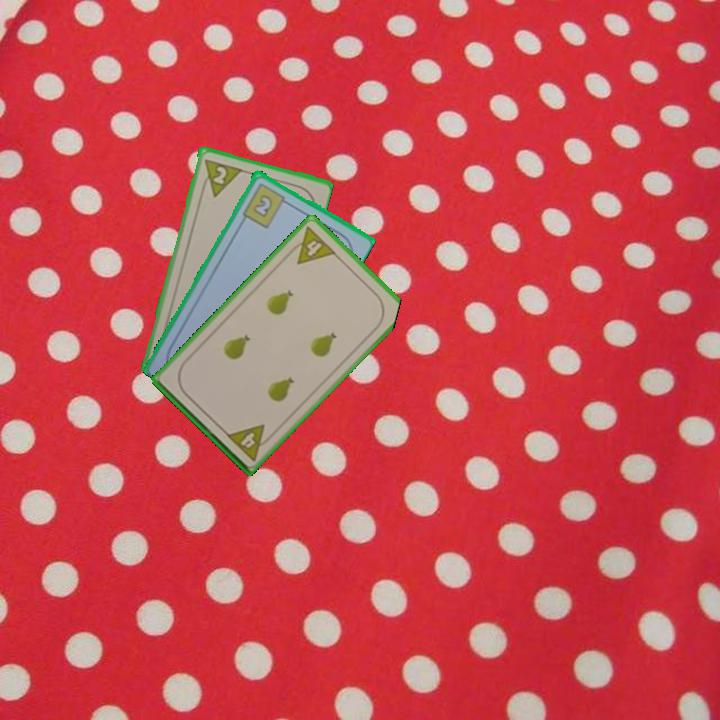2b: (239, 179, 292, 230)
2p: (197, 155, 244, 200)
4p: (284, 222, 339, 267), (223, 420, 276, 464)
